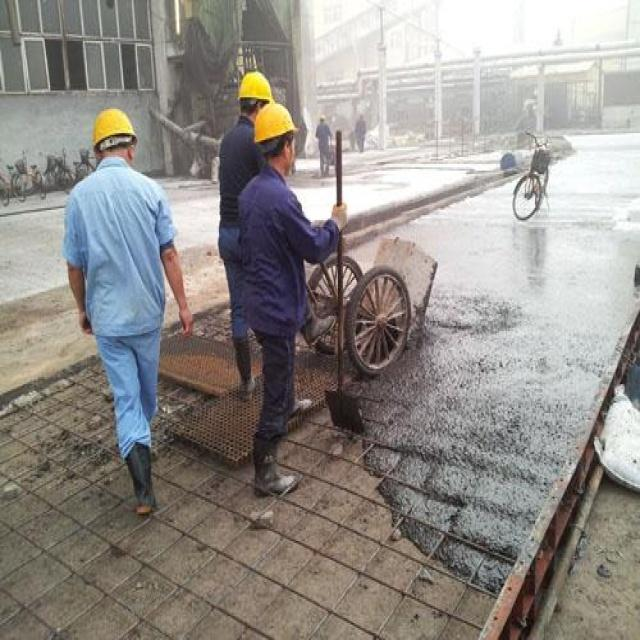helmet: (86, 134, 141, 230), (257, 137, 299, 235), (236, 93, 273, 164)
